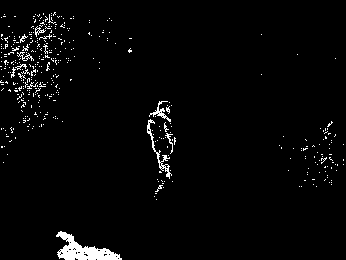person: (142, 97, 182, 197)
